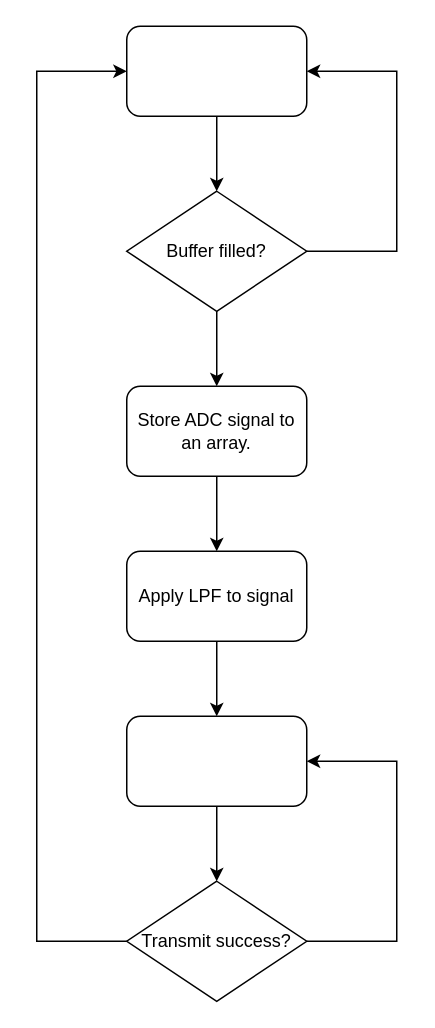
The diagram is 435 pixels wide and 1028 high, and some of its shapes have lost their labels. Here are the shapes that lost their labels. From the top down, the centre of each, then its label:
At [216,70]: "Read ADC signal and store to buffer".
At [216,760]: "Transmit filtered signal through UART".
